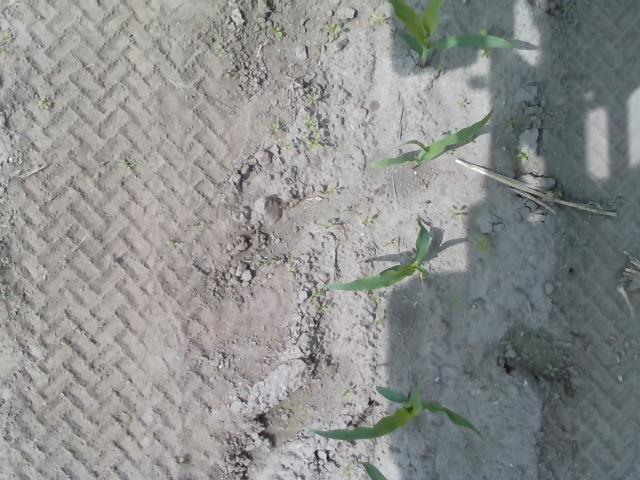Maize: (308, 384, 487, 441), (386, 0, 516, 68), (323, 216, 431, 292), (367, 107, 494, 169), (356, 459, 388, 480)
Weeds: (303, 117, 322, 150), (310, 292, 327, 313), (476, 234, 494, 251), (542, 362, 560, 378), (0, 32, 11, 54), (118, 158, 136, 170), (37, 98, 53, 110), (322, 23, 342, 32), (480, 46, 495, 58), (502, 116, 517, 128), (513, 150, 529, 161), (307, 94, 320, 105), (448, 208, 462, 218), (562, 0, 573, 12), (280, 140, 292, 151), (361, 214, 374, 224), (375, 14, 388, 24), (275, 27, 284, 41), (339, 389, 352, 398), (215, 45, 226, 55), (452, 295, 462, 306), (342, 466, 352, 476), (271, 123, 280, 134), (328, 184, 337, 194), (325, 222, 336, 230), (371, 296, 382, 303), (435, 63, 445, 70), (480, 26, 487, 34)
